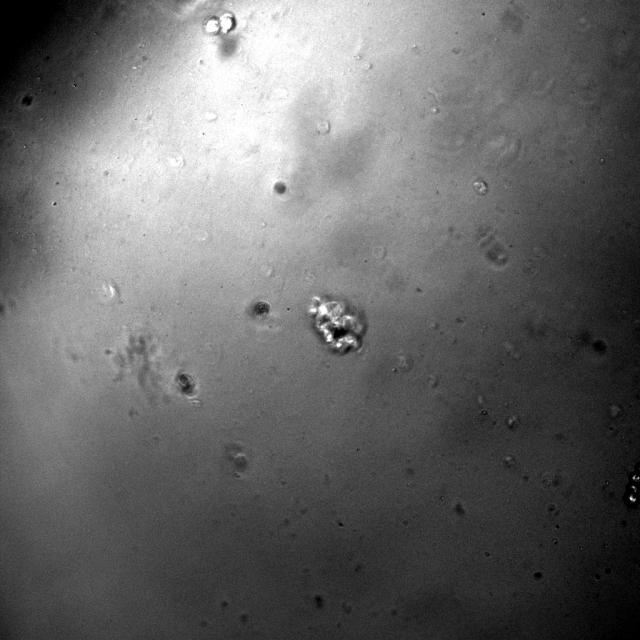organoid: (308, 297, 364, 353), (204, 12, 236, 36), (172, 369, 196, 398), (472, 179, 488, 195), (254, 301, 269, 316), (274, 181, 286, 194)
